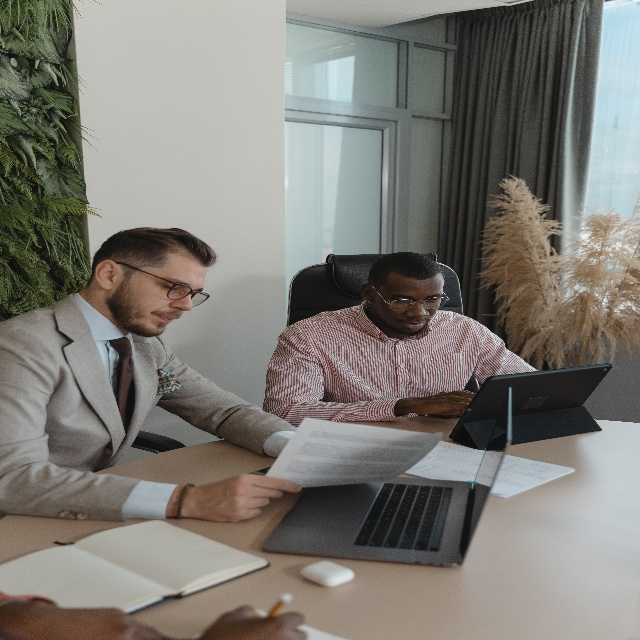Gafas: (117, 258, 211, 308), (371, 286, 449, 316)
Sin_guantes: (191, 476, 301, 520), (417, 387, 475, 418)
